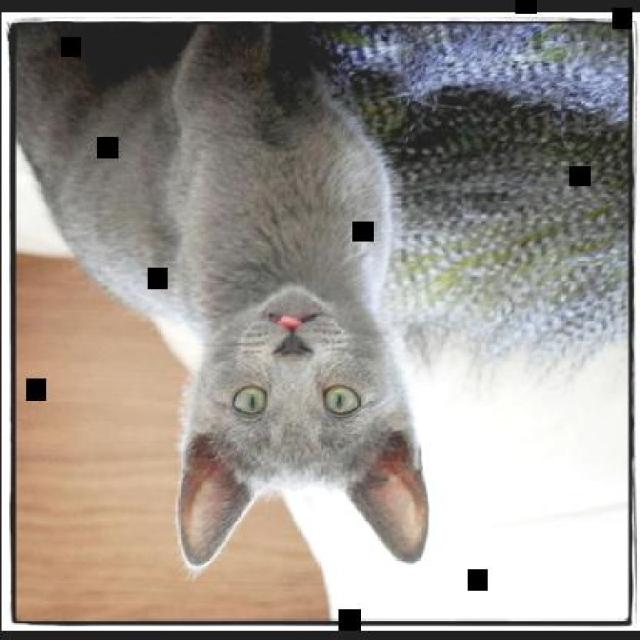unauthorized: (11, 20, 431, 577)
